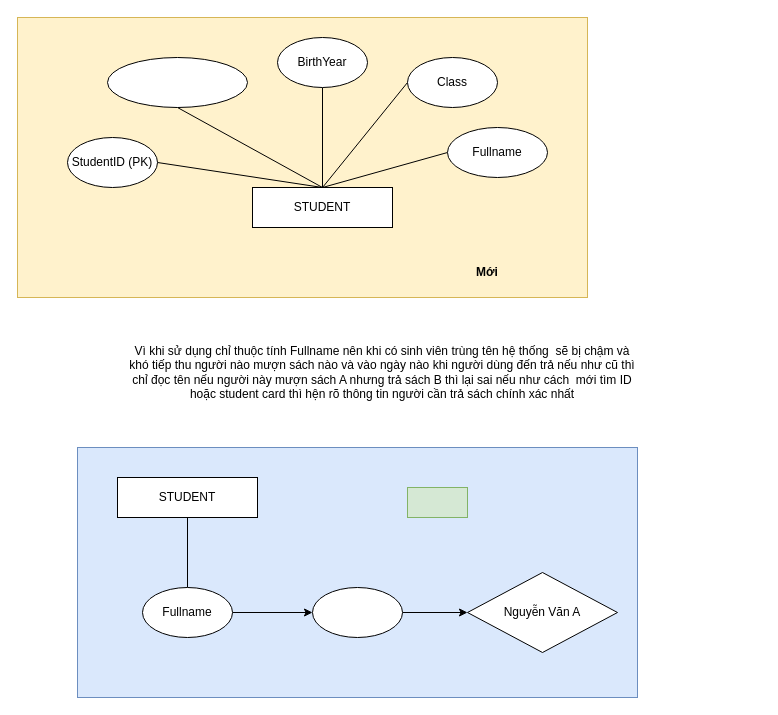
The diagram is 778 pixels wide and 715 high, and some of its shapes have lost their labels. The shapes that lost their labels are listed below. From the top down, each one's box as (x1, y1, x2, y2) in pixels, then its label:
(106, 56, 248, 108): Student card (PK)
(406, 486, 468, 518): Cũ
(312, 586, 402, 638): Trùng tên
